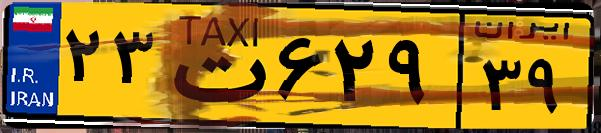2: (330, 28, 385, 110), (57, 26, 110, 100)
3: (475, 38, 525, 113), (110, 28, 158, 98)
6: (270, 28, 330, 110)
9: (385, 28, 445, 110), (525, 38, 570, 115)
ت: (158, 12, 270, 120)
